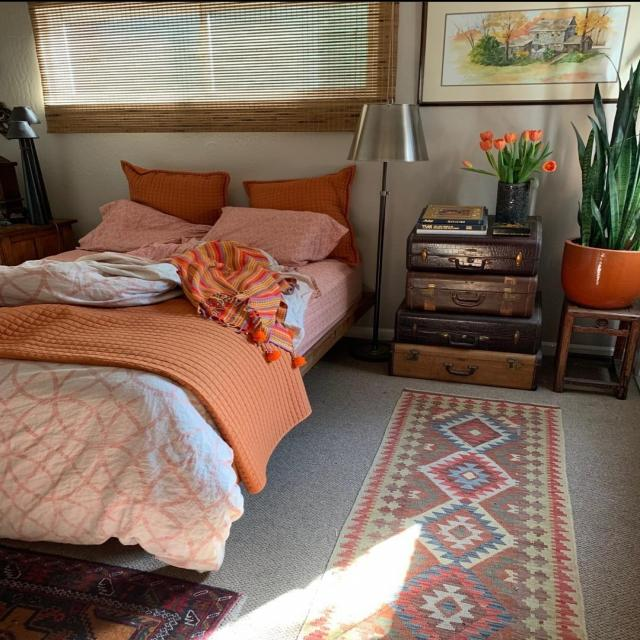bed: (0, 164, 364, 524)
